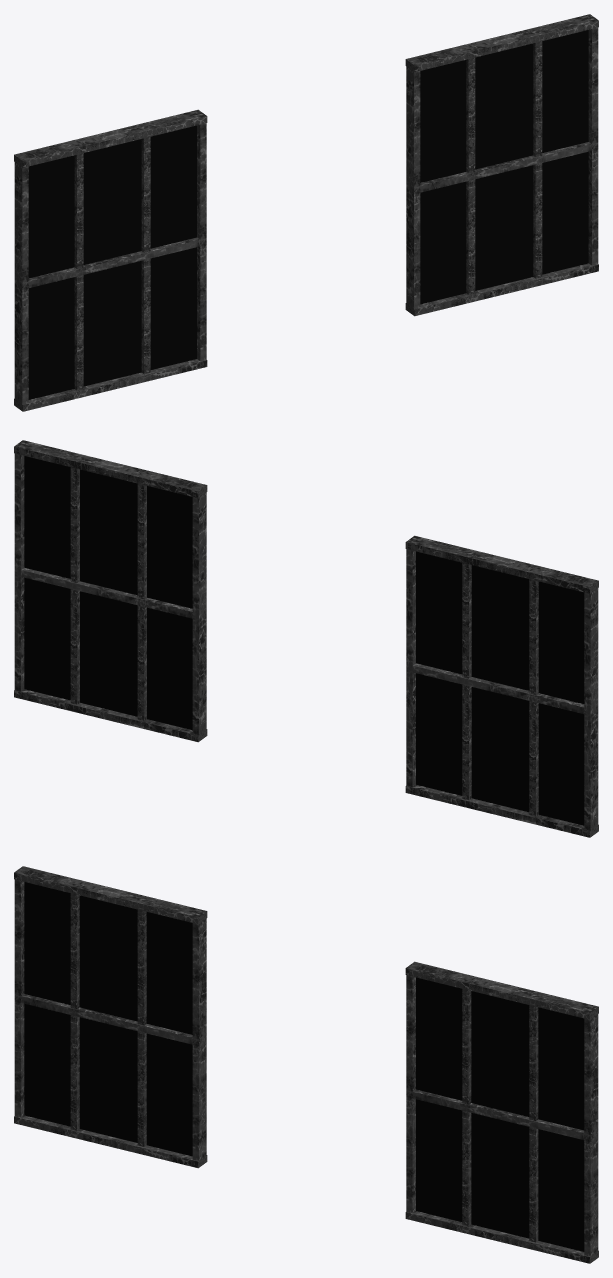
The model's file is BuildingA_Window.fbx.
The picture shows the model from 3 angles, top to bottom: view 1: azimuth 30°, elevation 25°; view 2: azimuth 150°, elevation 25°; view 3: azimuth 330°, elevation 25°; orthographic projection.
Parts seen in each view (by area): view 1: BuildingA_Window; view 2: BuildingA_Window; view 3: BuildingA_Window.
Part boxes in pixels (x1,y1,x2,y2): BuildingA_Window: [14, 14, 598, 411]; BuildingA_Window: [14, 440, 598, 837]; BuildingA_Window: [14, 866, 598, 1263].
Bounding box in the file's own units: 248 × 103 × 6.65.
